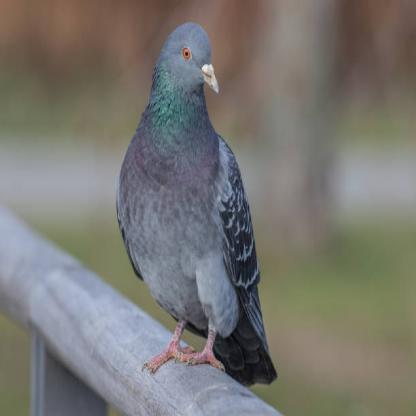Rock Pigeon: (119, 20, 275, 375)
